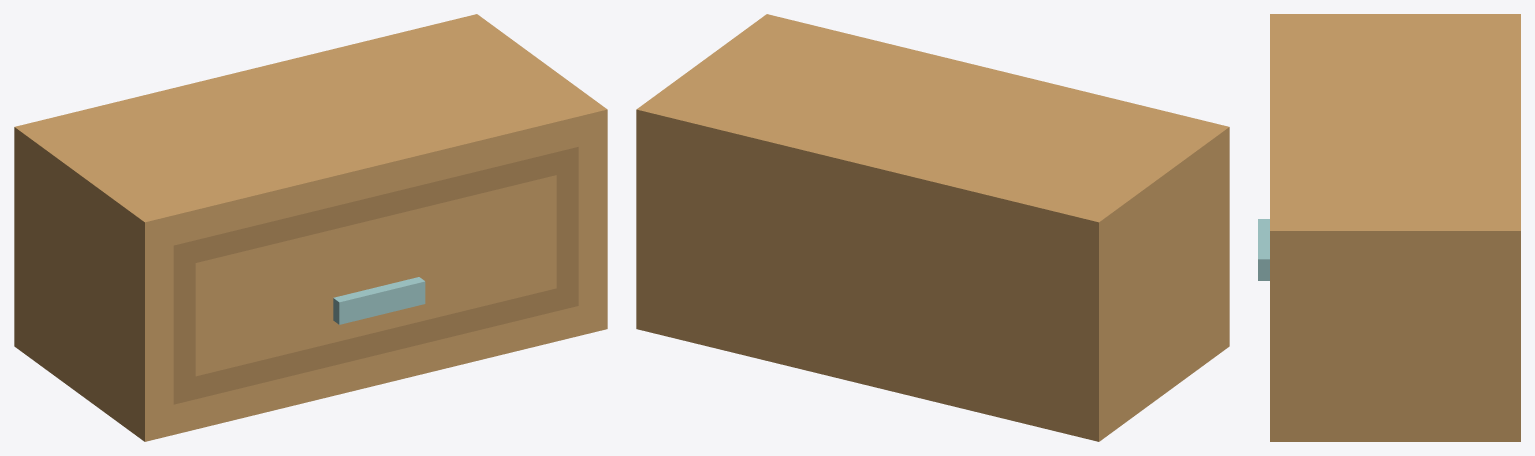
File: kitchenCabinetUpperLow.glb
3 views of the same model, side by side, from view 1: azimuth 30°, elevation 25°; view 2: azimuth 150°, elevation 25°; view 3: azimuth 270°, elevation 25° (orthographic). The views are drawn at different scales.
Visible parts, largest first — view 1: kitchenCabinetUpperLow, door 8; view 2: kitchenCabinetUpperLow; view 3: kitchenCabinetUpperLow, door 8.
Boxes of the visible parts, left/top/right/bottom form: kitchenCabinetUpperLow: left=14, top=14, right=607, bottom=441; door 8: left=173, top=147, right=578, bottom=404; kitchenCabinetUpperLow: left=636, top=14, right=1229, bottom=441; kitchenCabinetUpperLow: left=1270, top=14, right=1520, bottom=441; door 8: left=1258, top=219, right=1269, bottom=280.
Size of the model in its own units: 0.774 by 0.351 by 0.396.
